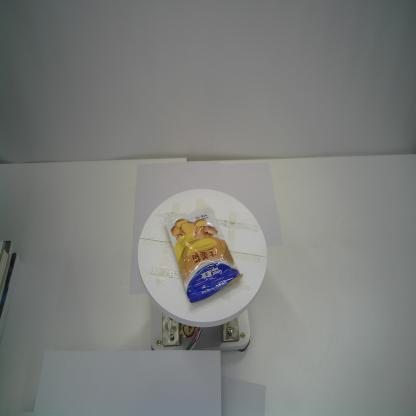Seasoner: (164, 207, 243, 305)
